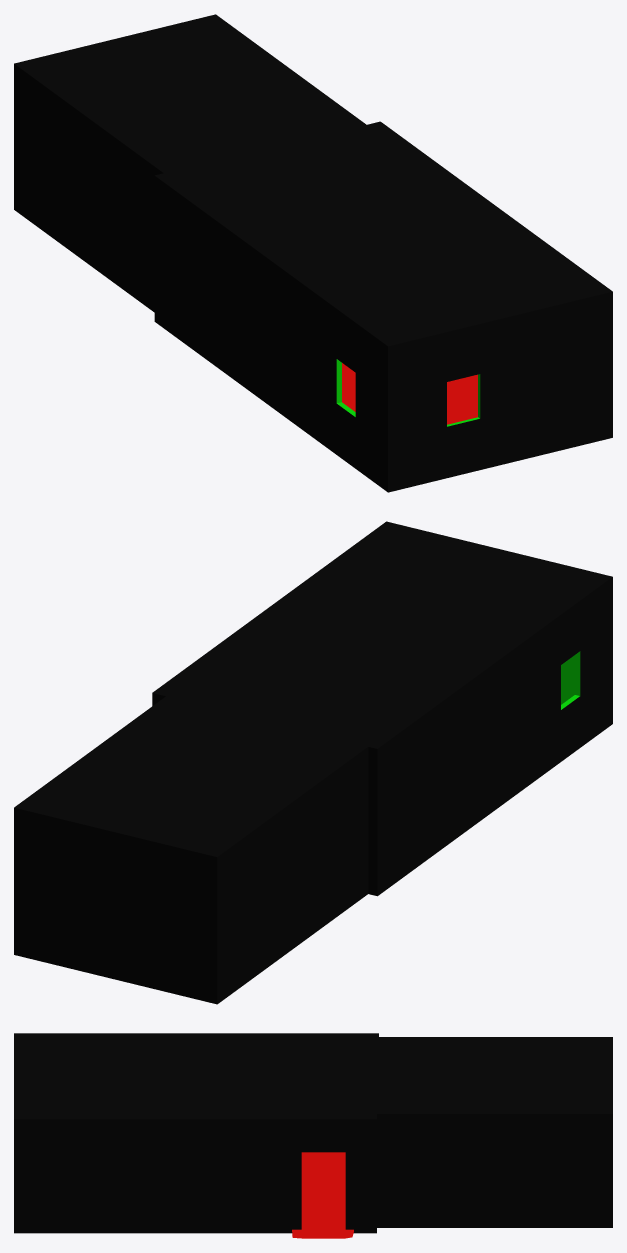
Rendered from House Part 2.fbx.
3 views of the same model, one above another, from view 1: azimuth 30°, elevation 25°; view 2: azimuth 150°, elevation 25°; view 3: azimuth 270°, elevation 25° (orthographic). The views are drawn at different scales.
Parts seen in each view (by area): view 1: House Outside, Floor (for carpet); view 2: House Outside, Cube; view 3: House Outside, Floor (for carpet).
Part boxes in pixels (x1,y1,x2,y2): House Outside: (14, 14, 612, 492); Floor (for carpet): (342, 363, 477, 424); House Outside: (14, 521, 612, 1004); Cube: (561, 651, 580, 709); House Outside: (14, 1033, 612, 1233); Floor (for carpet): (292, 1152, 353, 1238).
Bounding box in the file's own units: 552 × 317 × 1506.
